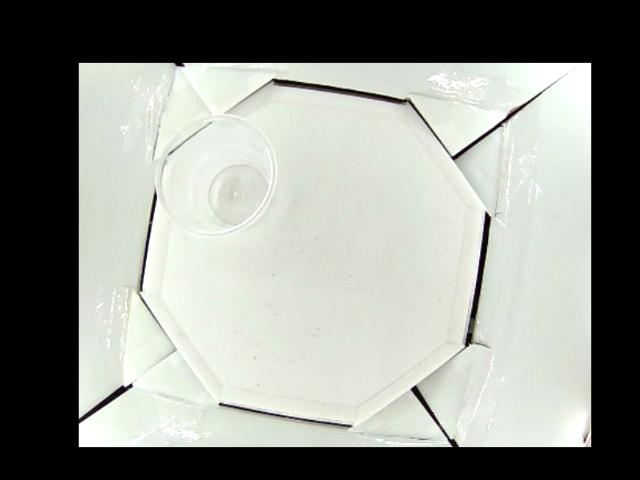Cup: (154, 111, 279, 238)
